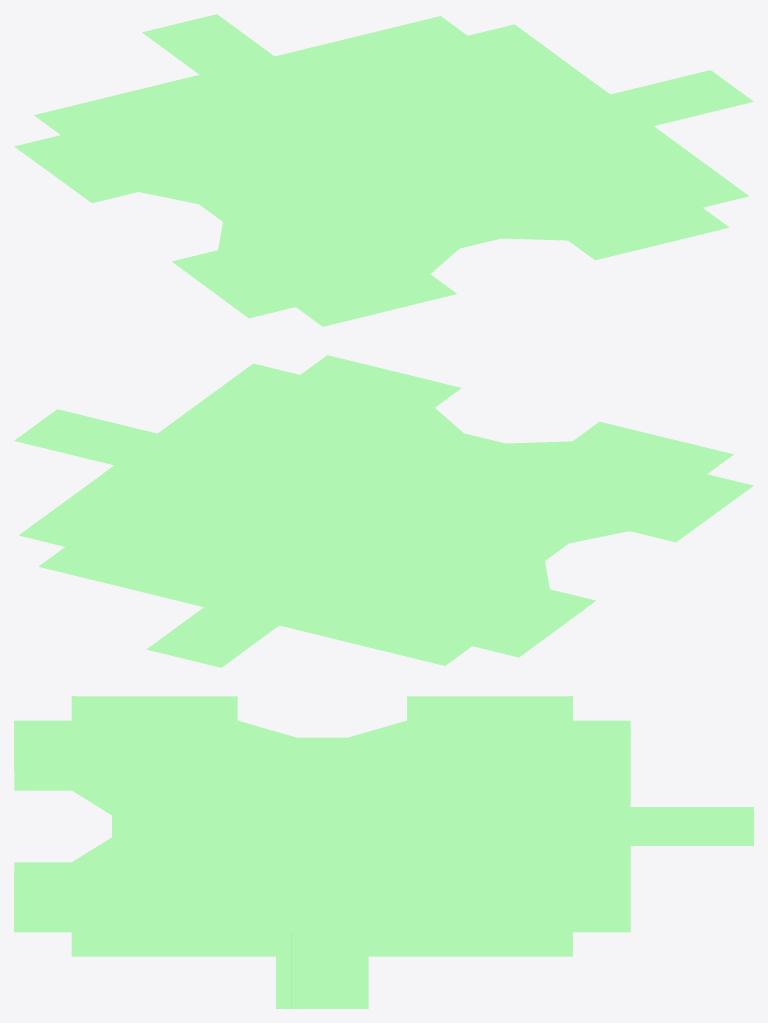
Rendered from s04b_lb1-floor.glb.
3 views of the same model, one above another, from view 1: azimuth 30°, elevation 25°; view 2: azimuth 150°, elevation 25°; view 3: azimuth 270°, elevation 25° (orthographic). The views are drawn at different scales.
Visible parts, largest first — view 1: collision_floor-colonly; view 2: collision_floor-colonly; view 3: collision_floor-colonly.
Boxes of the visible parts, x1=… form: collision_floor-colonly: x1=14, y1=14, x2=753, y2=326; collision_floor-colonly: x1=15, y1=355, x2=752, y2=667; collision_floor-colonly: x1=14, y1=696, x2=753, y2=1008.
Bounding box in the file's own units: 47.99 × 0 × 48.
